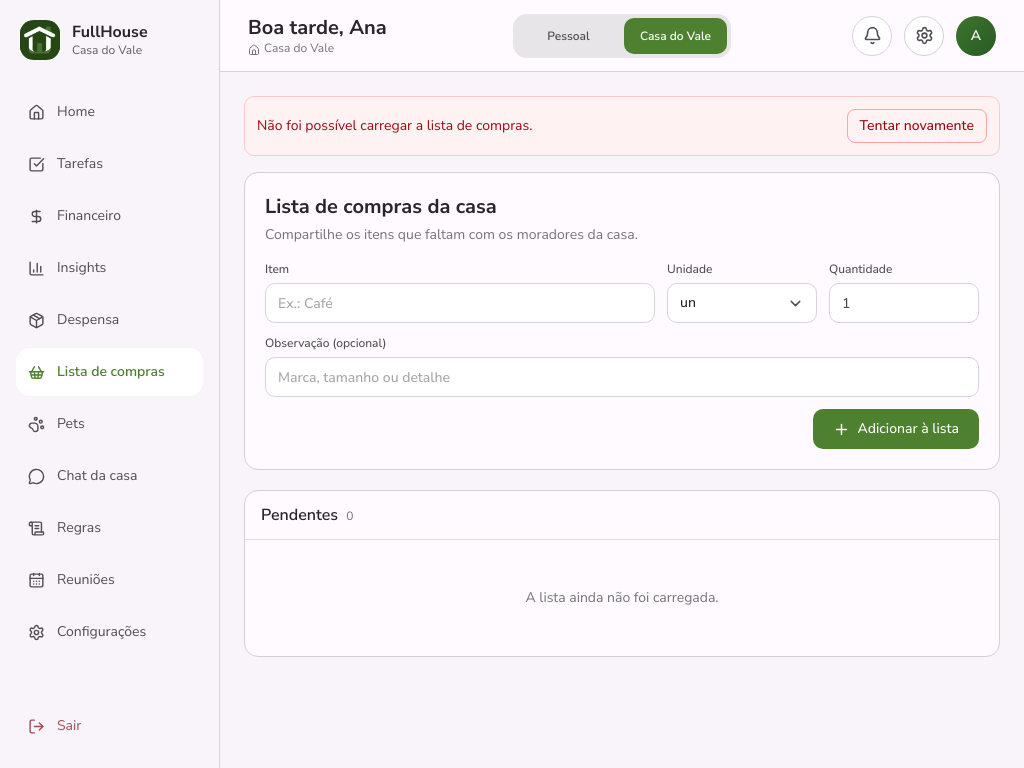
Test: ShoppingListPage › shows a query failure separately from empty state and lets the user retry
Expected: the message shows "Não foi possível carregar a lista de compras.", top-left (257, 116), bottom-right (532, 135)
Click the button "Tentar novamente" at (917, 126), box top-left (847, 109), bottom-right (987, 143)
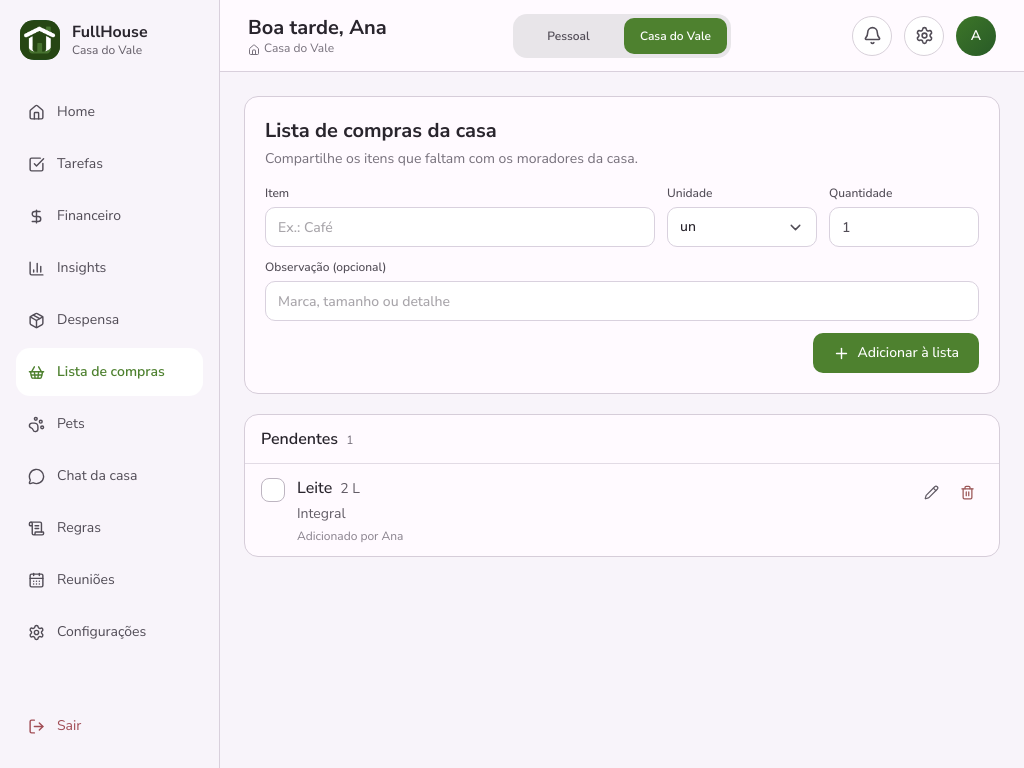
Expected: the text "Leite" is shown, top-left (297, 476), bottom-right (332, 500)
